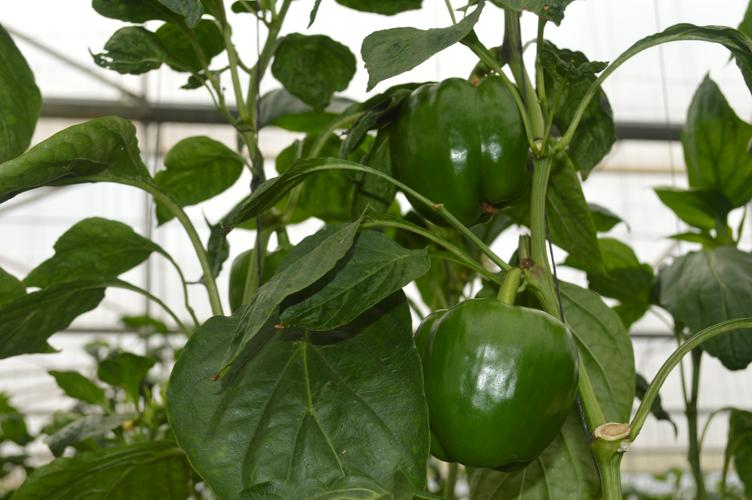BellPepper: (408, 296, 579, 477), (373, 61, 539, 231)
